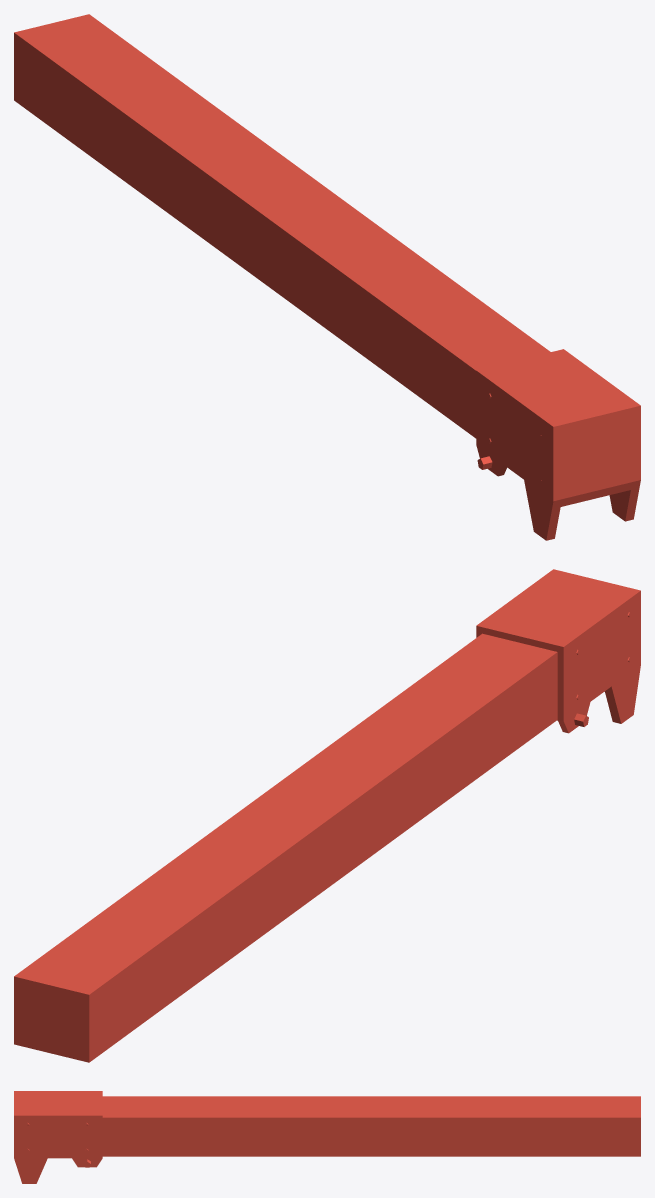
The model's file is SM_Camera_Crane_Arm_D.fbx.
3 renders of one model, top to bottom at view 1: azimuth 30°, elevation 25°; view 2: azimuth 150°, elevation 25°; view 3: azimuth 270°, elevation 25°, orthographic. The views are drawn at different scales.
Visible parts, largest first — view 1: SM_Camera_Crane_Arm_D; view 2: SM_Camera_Crane_Arm_D; view 3: SM_Camera_Crane_Arm_D.
Part boxes in pixels (x1,y1,x2,y2): SM_Camera_Crane_Arm_D: (14,14,640,540); SM_Camera_Crane_Arm_D: (14,569,640,1062); SM_Camera_Crane_Arm_D: (14,1091,640,1183).
Size of the model in its own units: 316 by 35.34 by 38.11.
